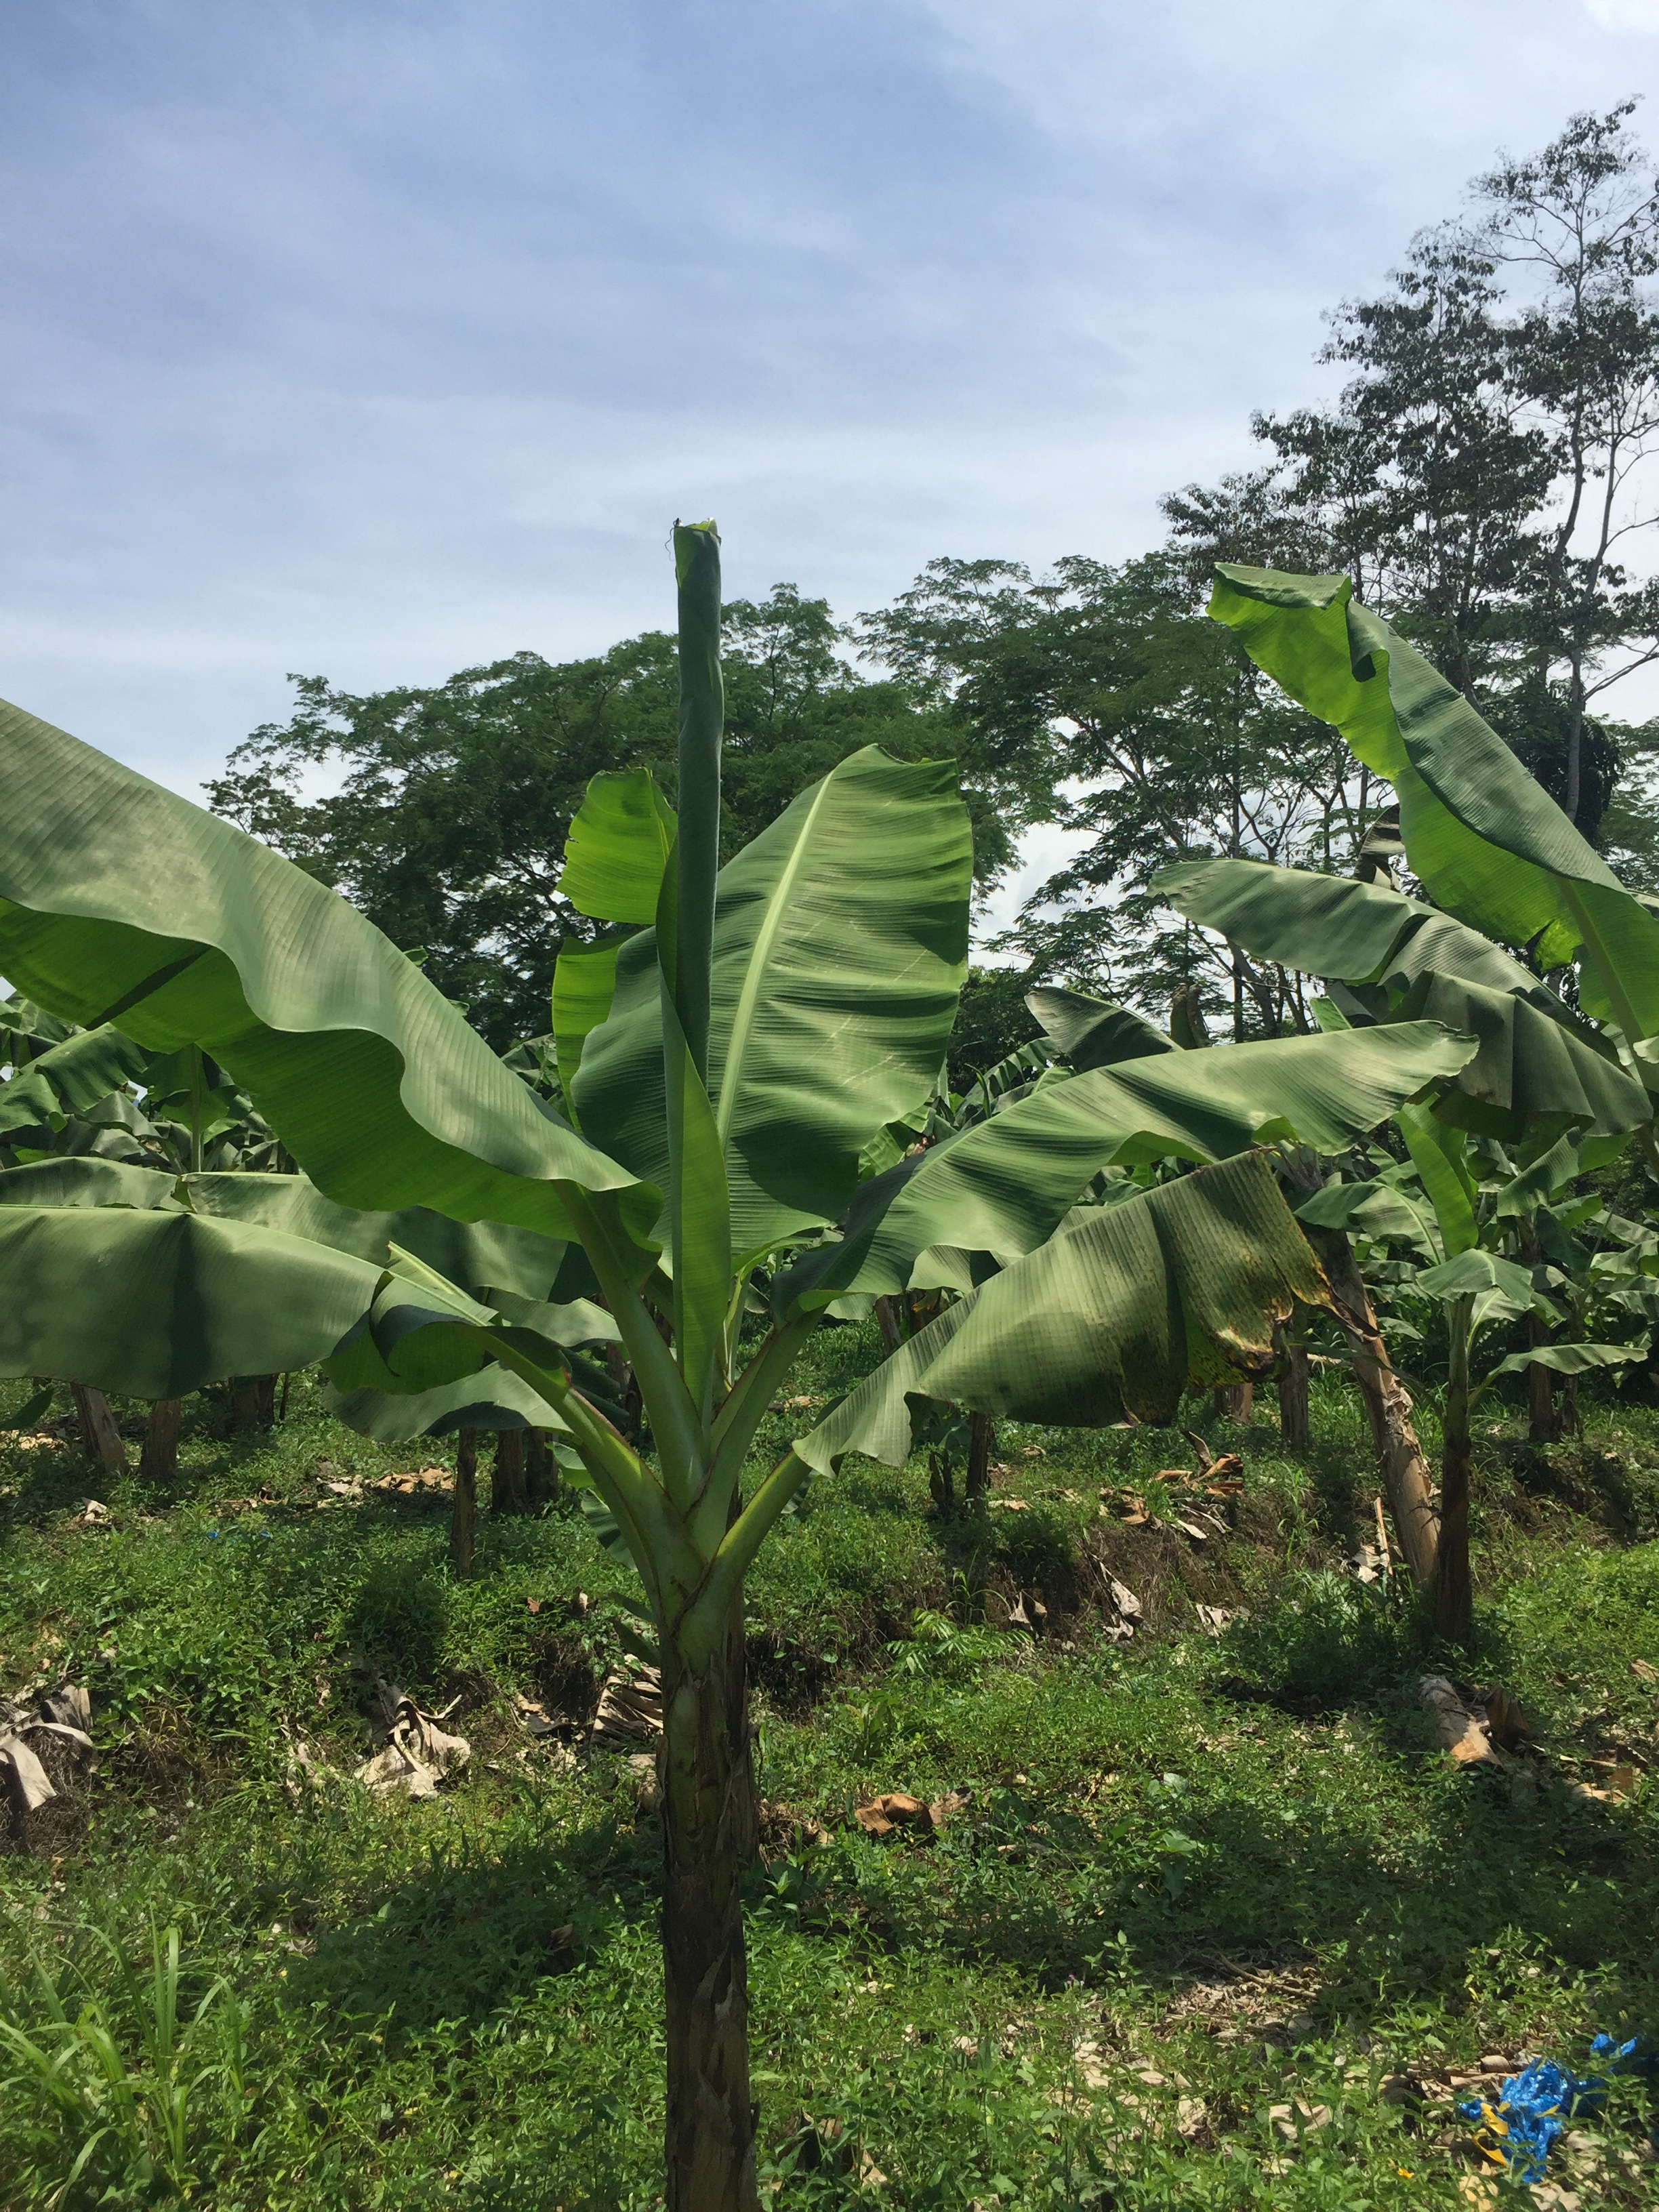candleleafs: (655, 521, 732, 1409)
